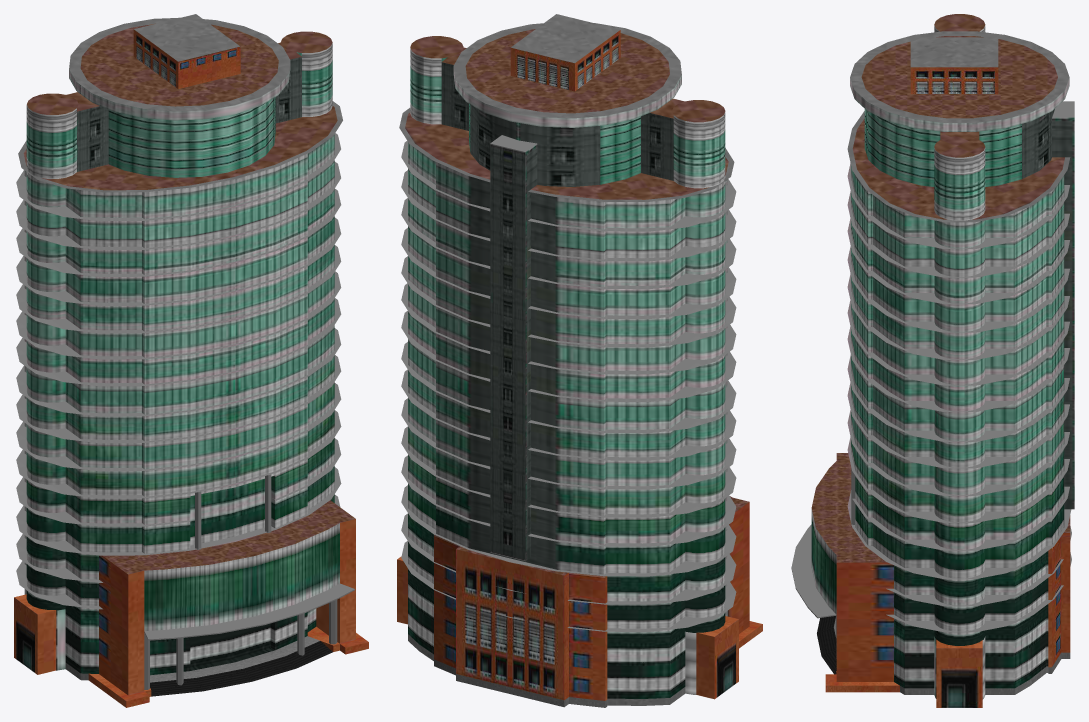
The picture shows the model from 3 angles, left to right: view 1: azimuth 30°, elevation 25°; view 2: azimuth 150°, elevation 25°; view 3: azimuth 270°, elevation 25°; orthographic projection. The views are drawn at different scales.
Parts seen in each view (by area): view 1: 5b611d865fb6564870b10ed4.001; view 2: 5b611d865fb6564870b10ed4.001; view 3: 5b611d865fb6564870b10ed4.001.
Part boxes in pixels (x1,y1,x2,y2): 5b611d865fb6564870b10ed4.001: (14, 14, 368, 707); 5b611d865fb6564870b10ed4.001: (397, 14, 762, 707); 5b611d865fb6564870b10ed4.001: (791, 14, 1074, 707).
Bounding box in the file's own units: 48 × 88.09 × 38.7.
Materials: 1 (1 with a texture image).
